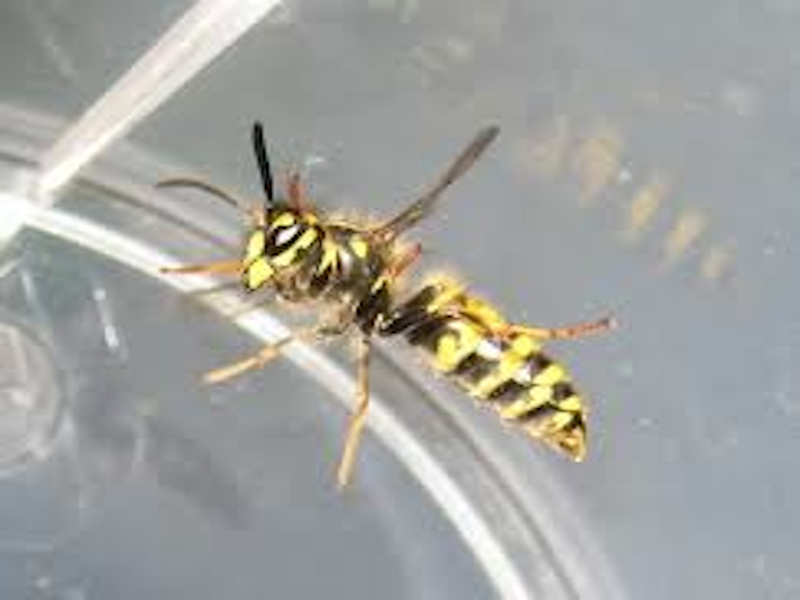chax: (151, 103, 641, 496)
